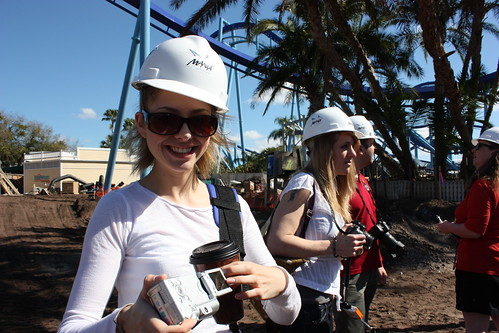person hardhat: (73, 33, 305, 333), (266, 106, 365, 333), (448, 122, 499, 333), (340, 113, 387, 333)
